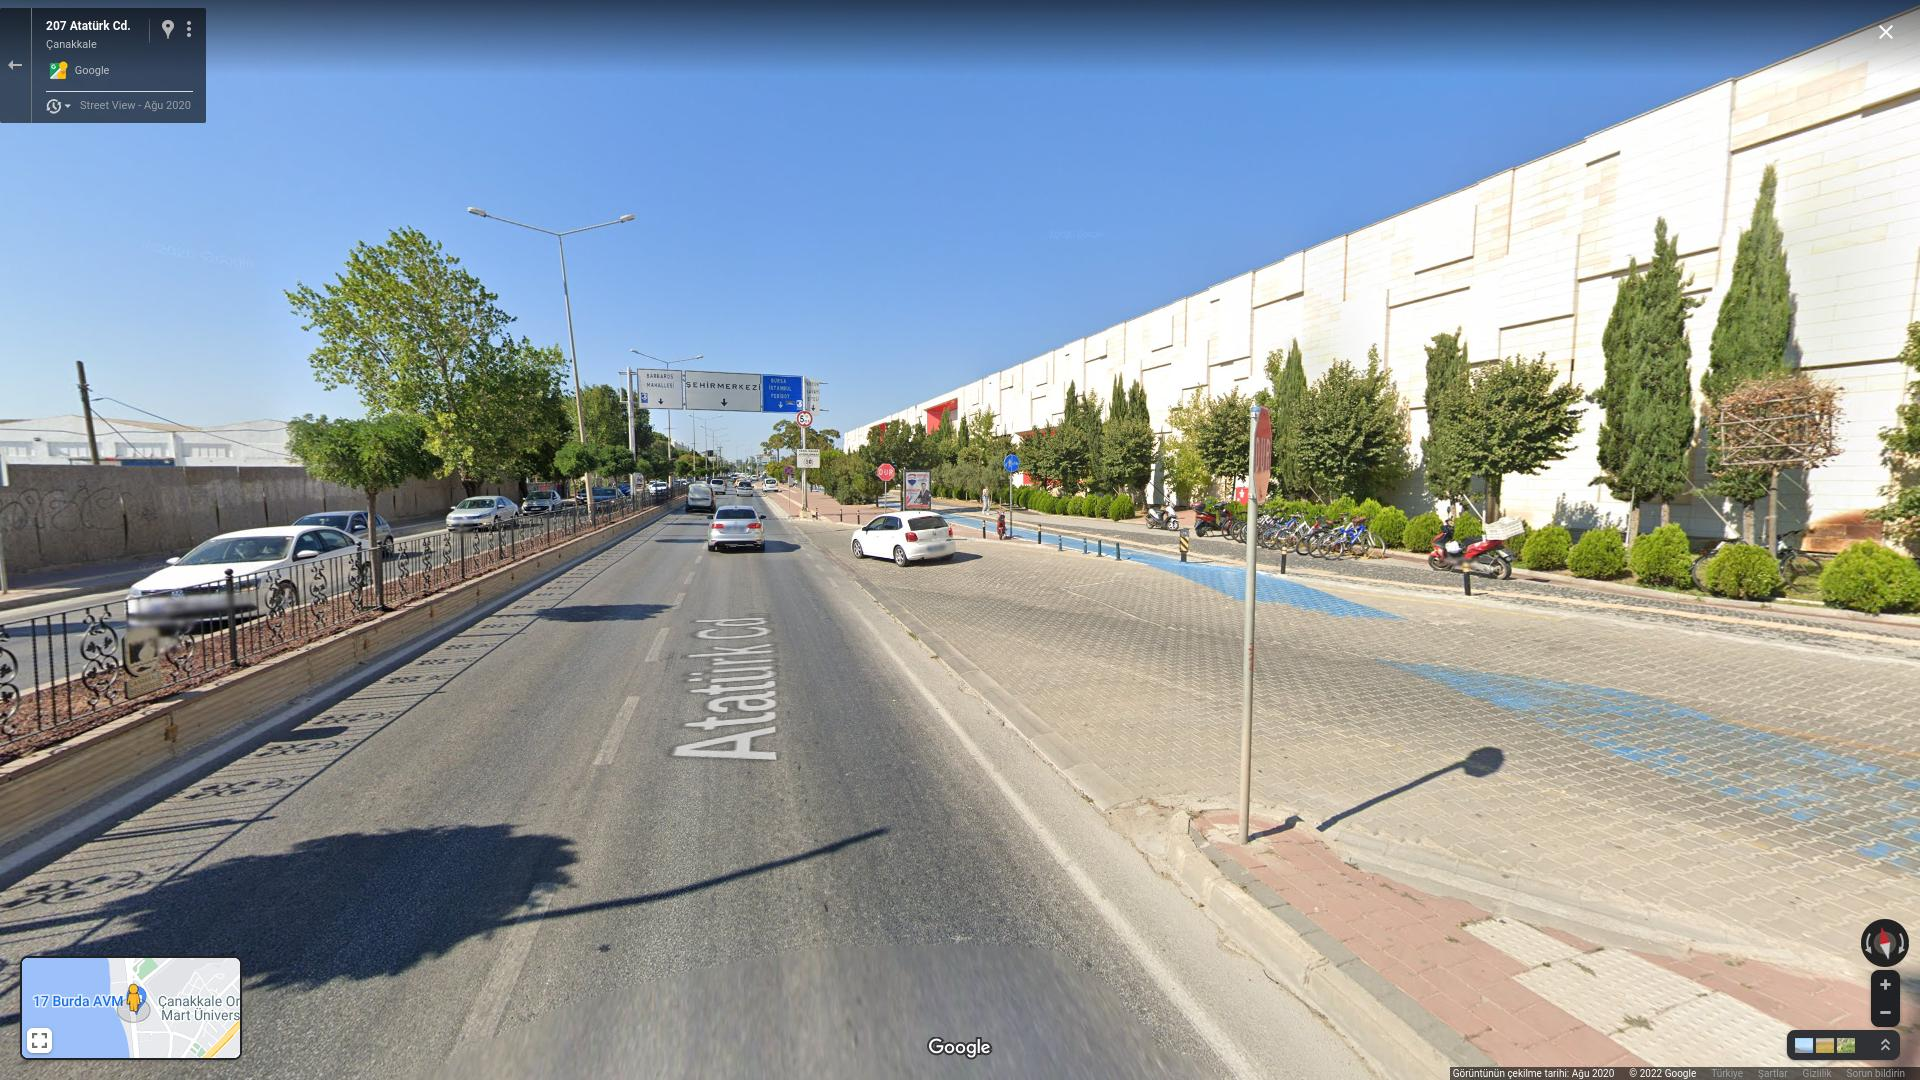stop: (877, 464, 897, 484)
